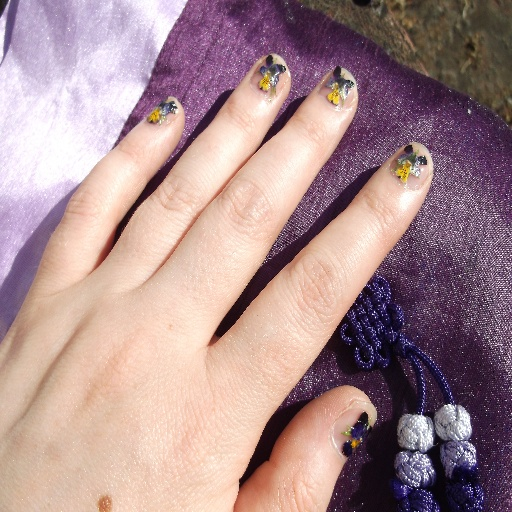hand: (0, 48, 432, 511)
